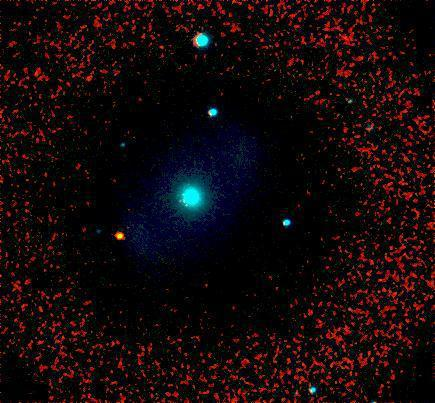star: (102, 222, 132, 252)
